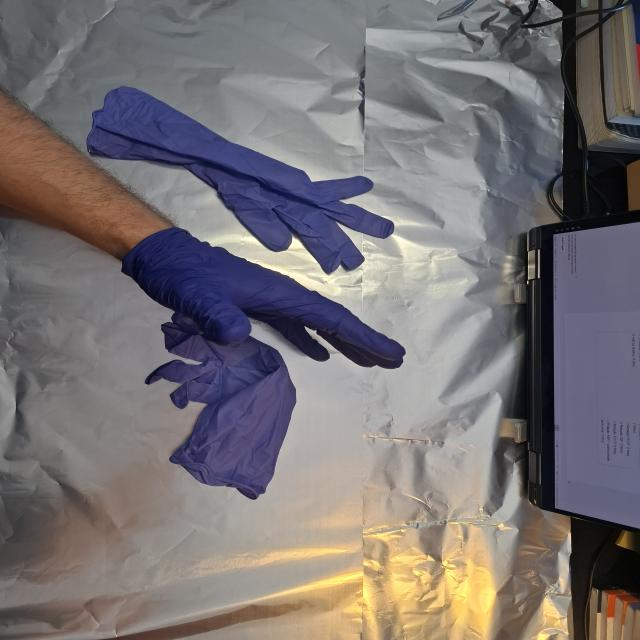glove_on: (123, 227, 408, 371)
